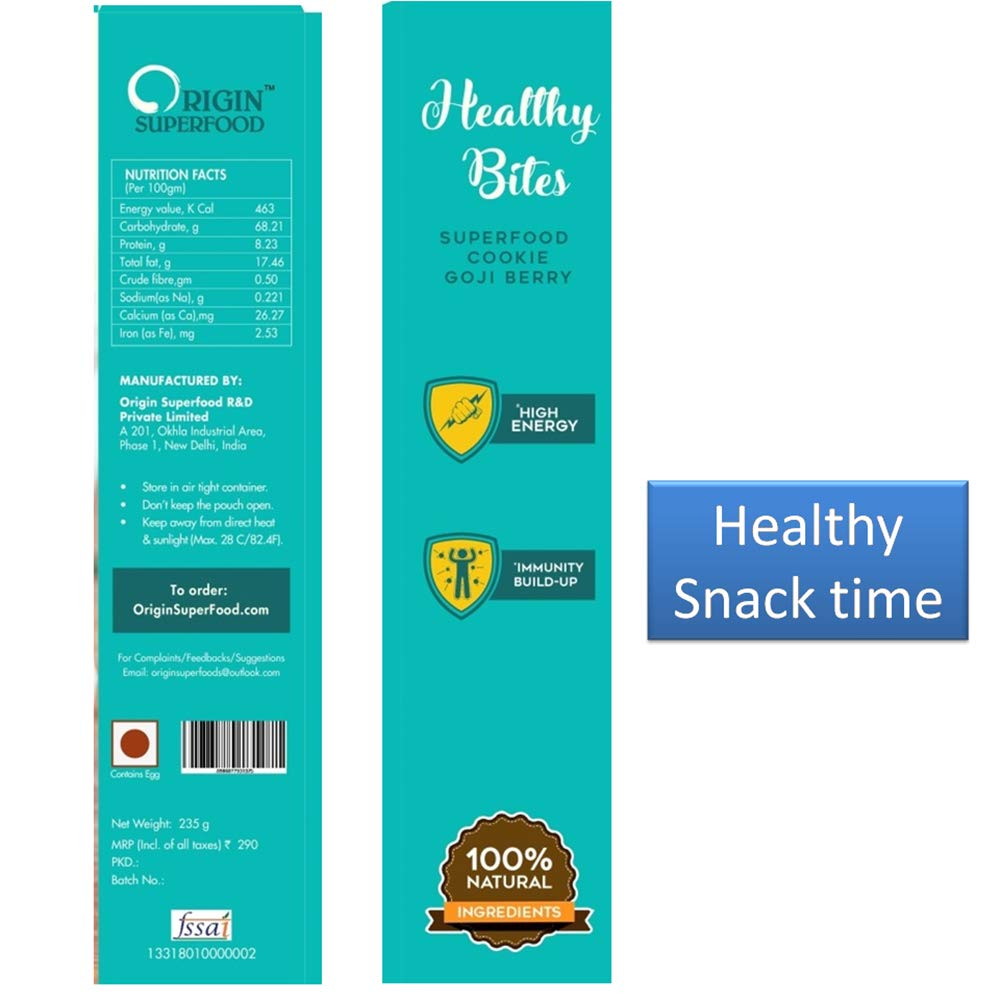nonveg_red: (108, 713, 163, 777)
